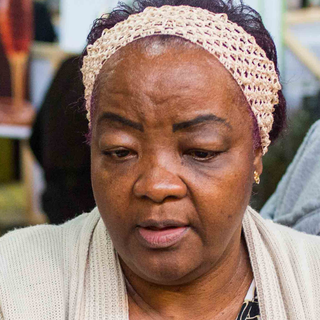eye: (178, 141, 226, 166), (101, 141, 143, 166)
